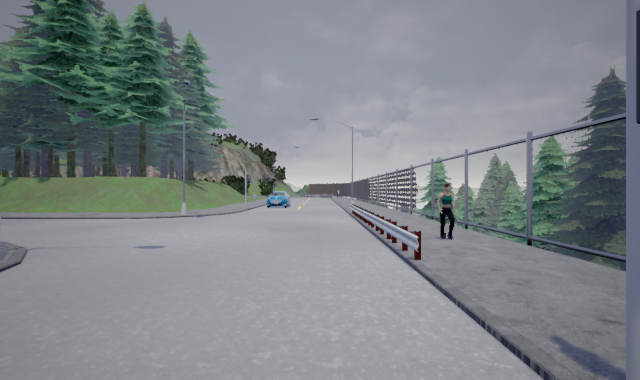pedestrian: (430, 180, 460, 241)
vehicle: (264, 191, 291, 208)
